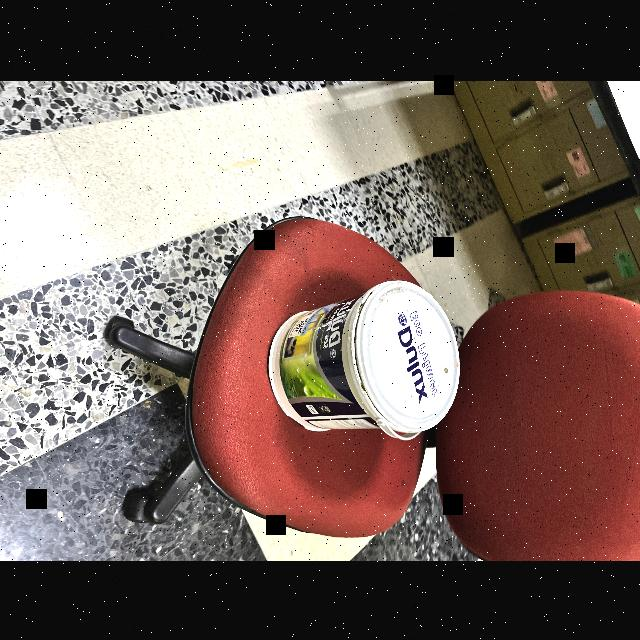paint_bucket: (262, 273, 462, 452)
